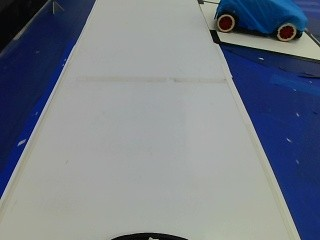car: (211, 0, 318, 42)
